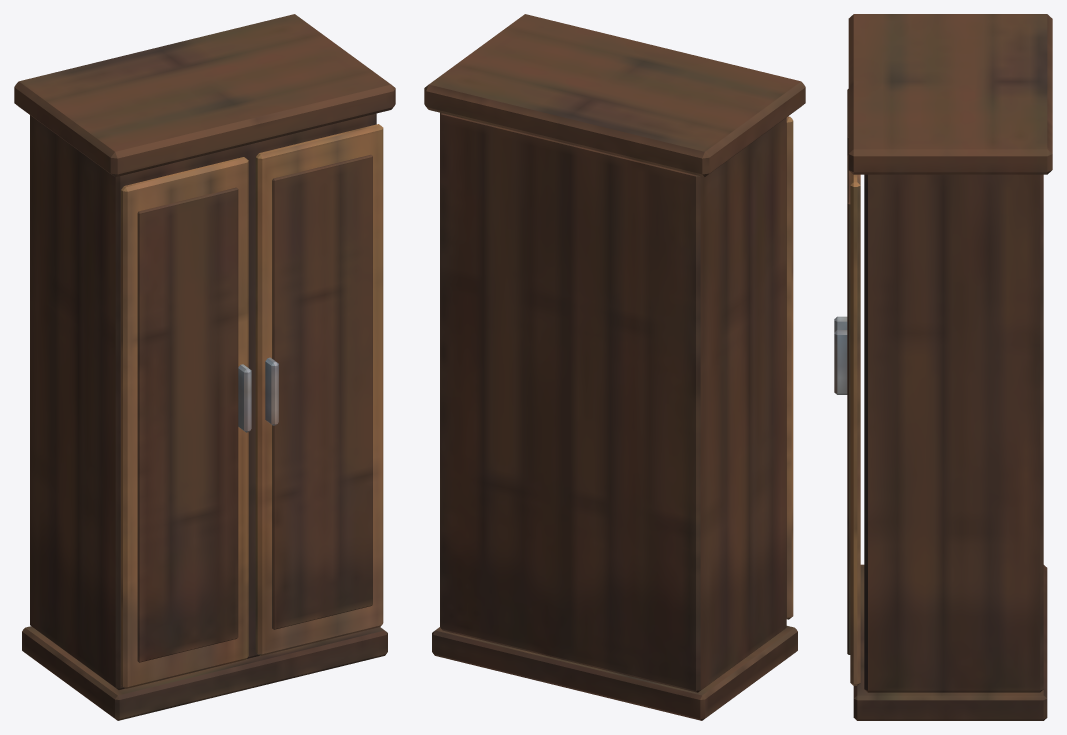
File: wardrobe.glb
3 views of the same model, side by side, from view 1: azimuth 30°, elevation 25°; view 2: azimuth 150°, elevation 25°; view 3: azimuth 270°, elevation 25° (orthographic).
Visible parts, largest first — view 1: wardrobe; view 2: wardrobe; view 3: wardrobe.
Part boxes in pixels (bbox=[...]): wardrobe: bbox=[14, 14, 395, 720]; wardrobe: bbox=[424, 14, 805, 720]; wardrobe: bbox=[834, 14, 1052, 720].
Bounding box in the file's own units: 0.94 × 1.8 × 0.62.
3 materials, 3 textured.
